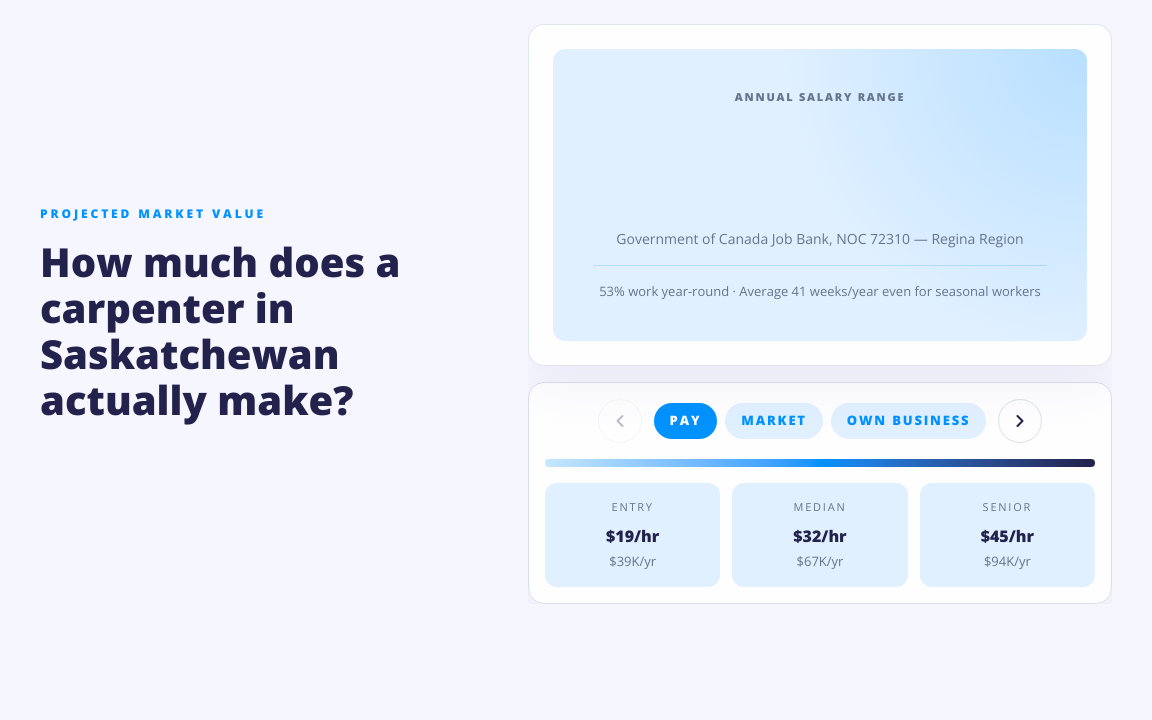
Test: ScreenSalary › detail navigation › moves backward through the detail panels with the previous chevron
The width and height of the screenshot is (1152, 720).
Click the button named "Show next salary detail" at {"x": 1020, "y": 421}, box [998,399,1042,443]
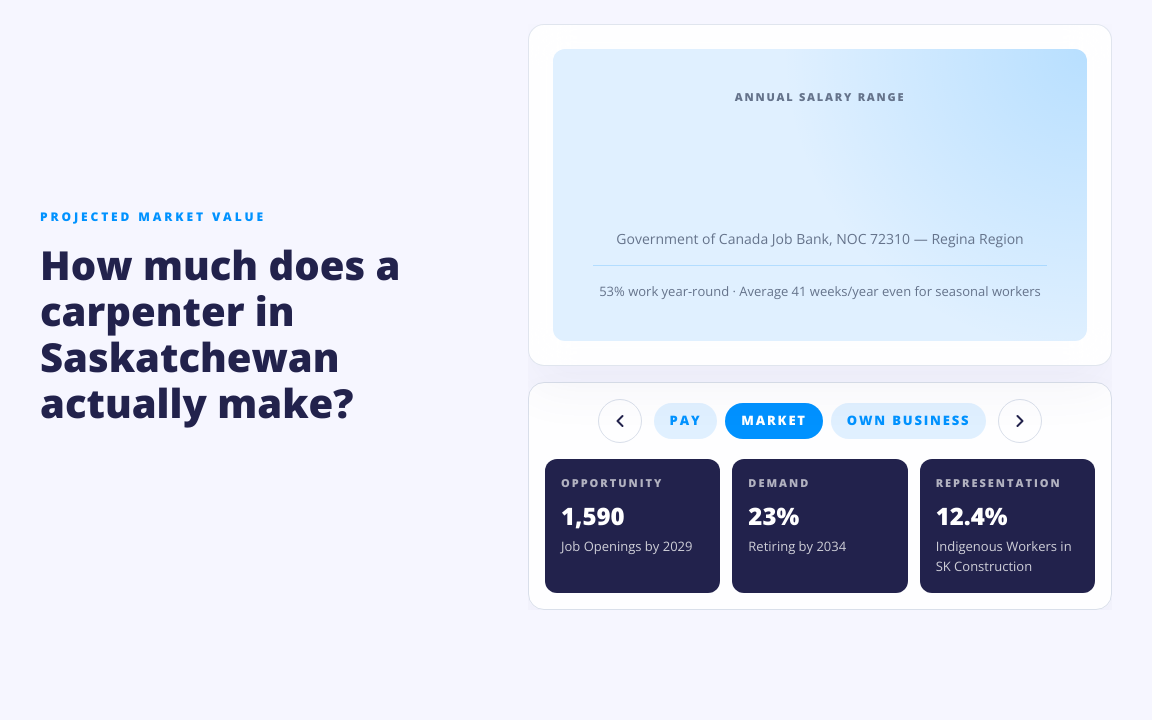
Click the button named "Show next salary detail" at {"x": 1020, "y": 421}, box [998,399,1042,443]
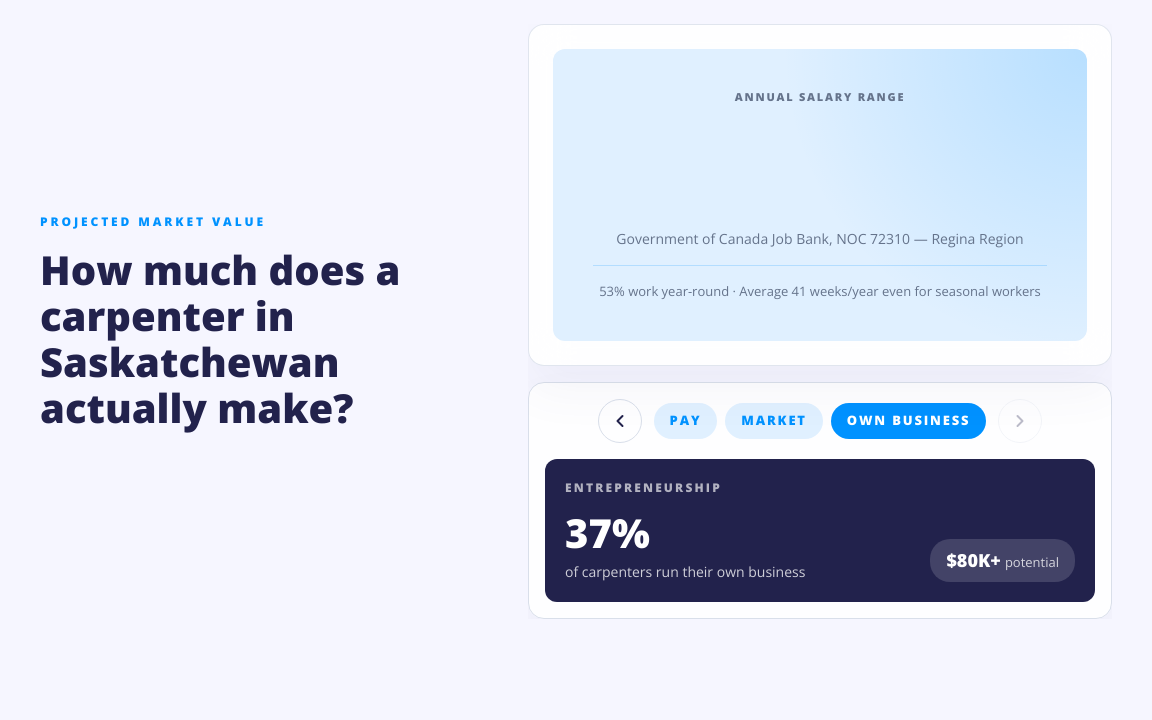
Click the button named "Show previous salary detail" at {"x": 620, "y": 421}, box [598,399,642,443]
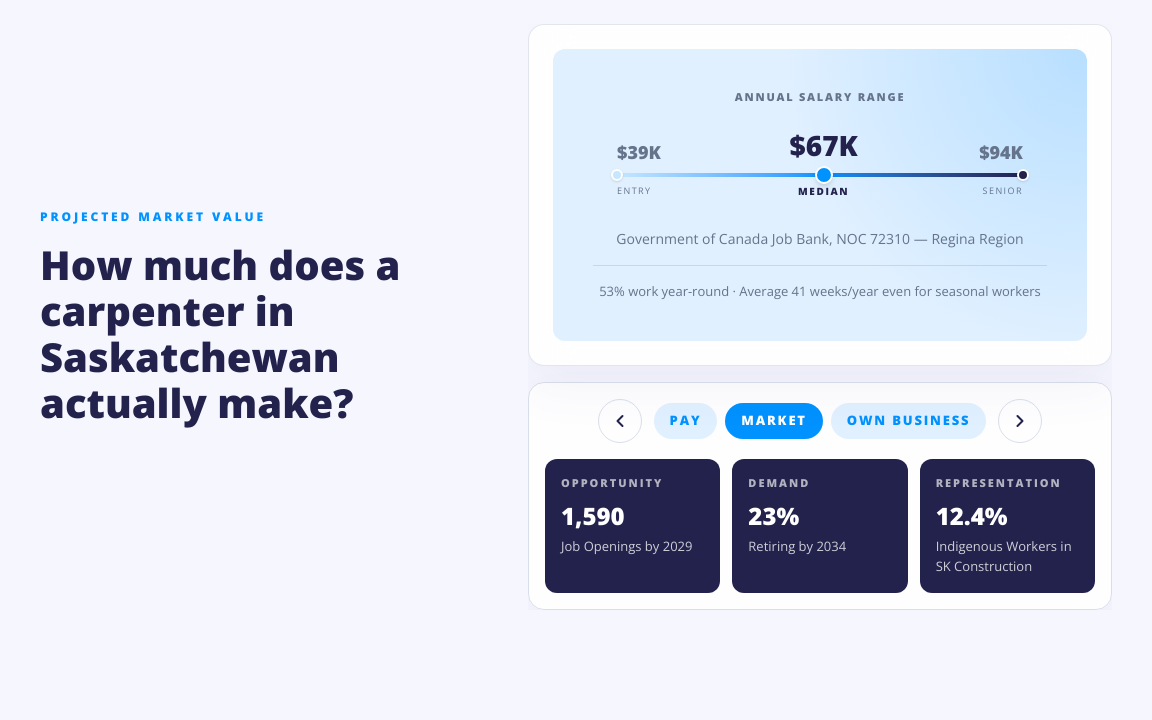
Now the text "1,590" is shown, box [561,498,625,532]
